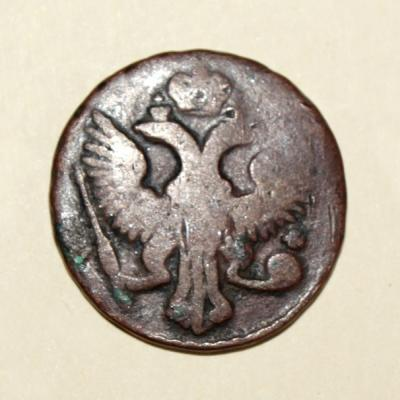numismatics: (50, 49, 347, 355)
